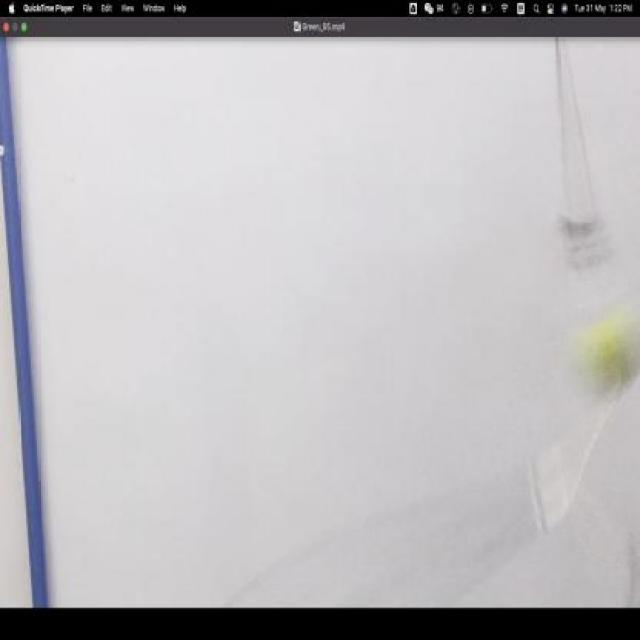baseball: (572, 298, 640, 404)
